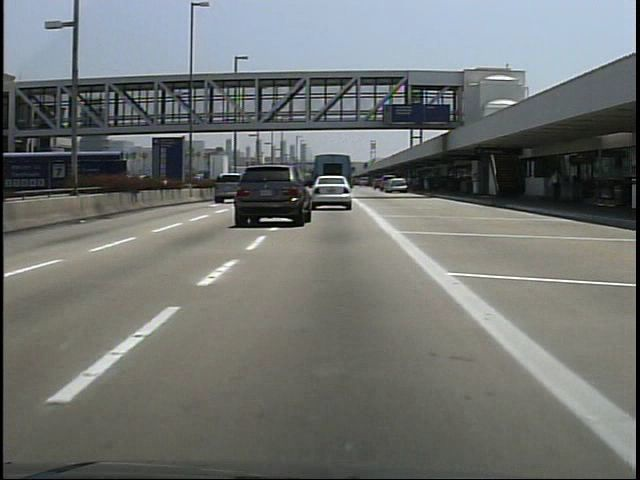person: (544, 169, 565, 208)
